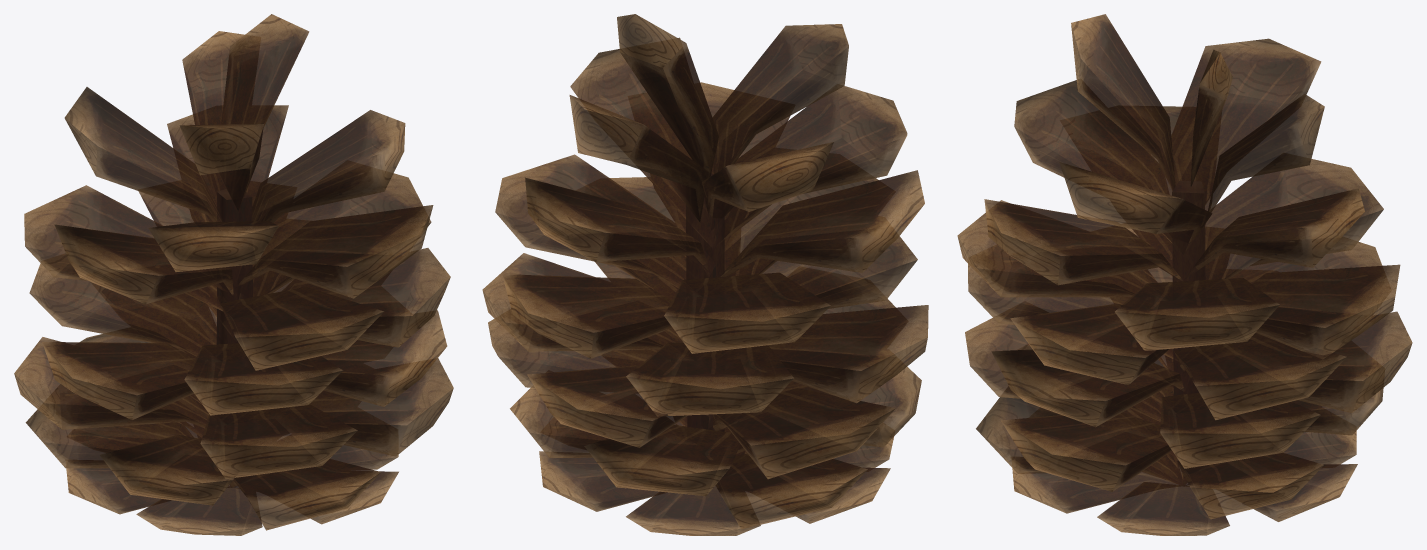
File: pinecone.fbx
The picture shows the model from 3 angles, left to right: view 1: azimuth 30°, elevation 25°; view 2: azimuth 150°, elevation 25°; view 3: azimuth 270°, elevation 25°; orthographic projection. The views are drawn at different scales.
Parts seen in each view (by area): view 1: cone.001; view 2: cone.001; view 3: cone.001.
Boxes of the visible parts, <box> form: cone.001: <box>14,14,453,535</box>; cone.001: <box>482,14,928,535</box>; cone.001: <box>957,14,1412,535</box>.
Bounding box in the file's own units: 43.86 × 50.65 × 45.07.
